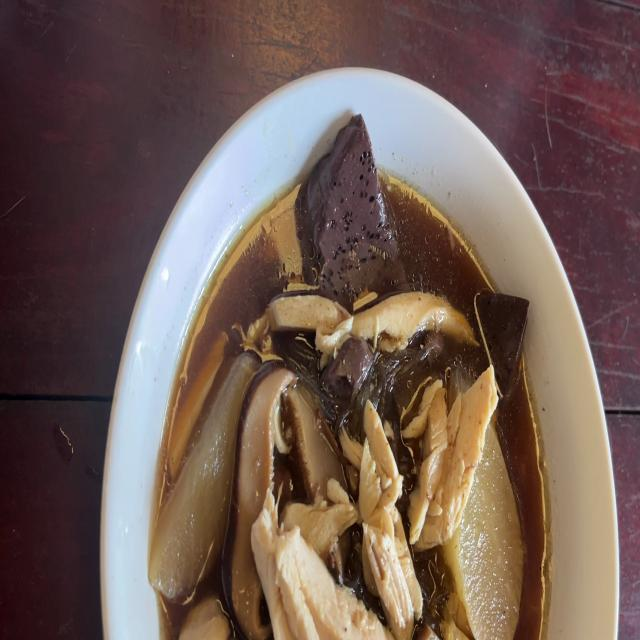noodle: (304, 116, 400, 292), (477, 290, 530, 382), (327, 333, 371, 397)
